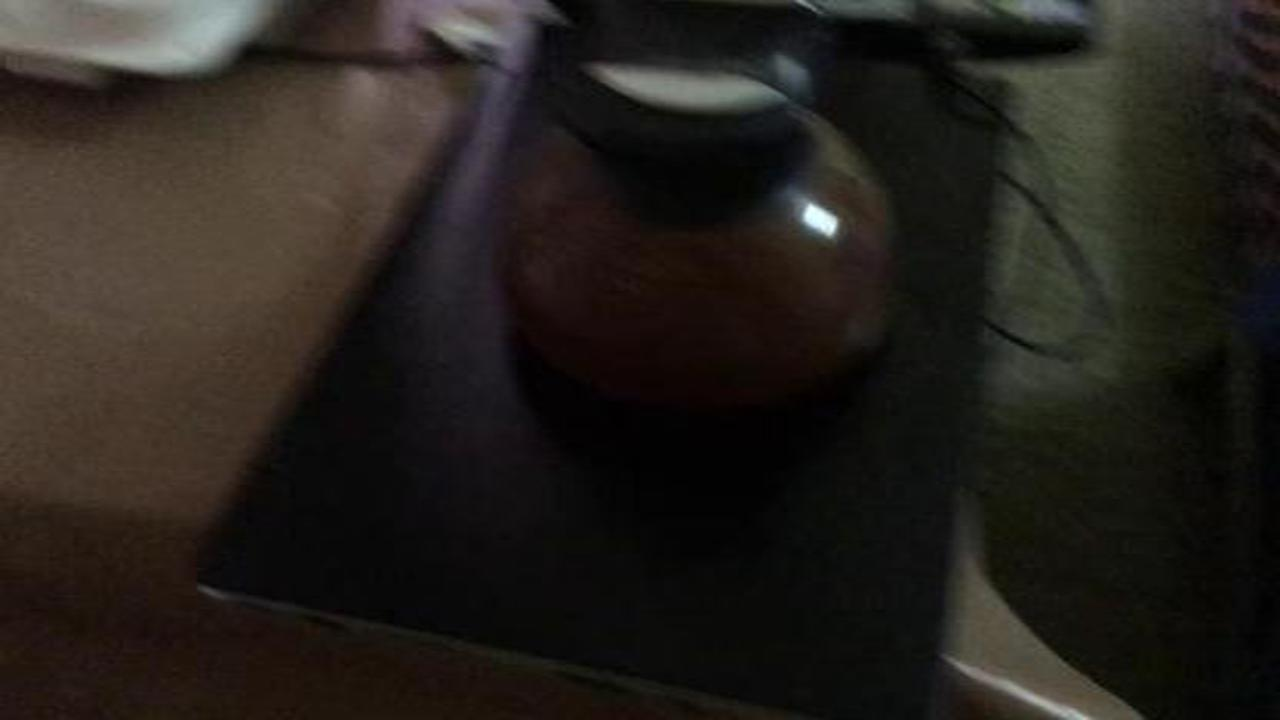insulator_pin: (462, 18, 902, 423)
